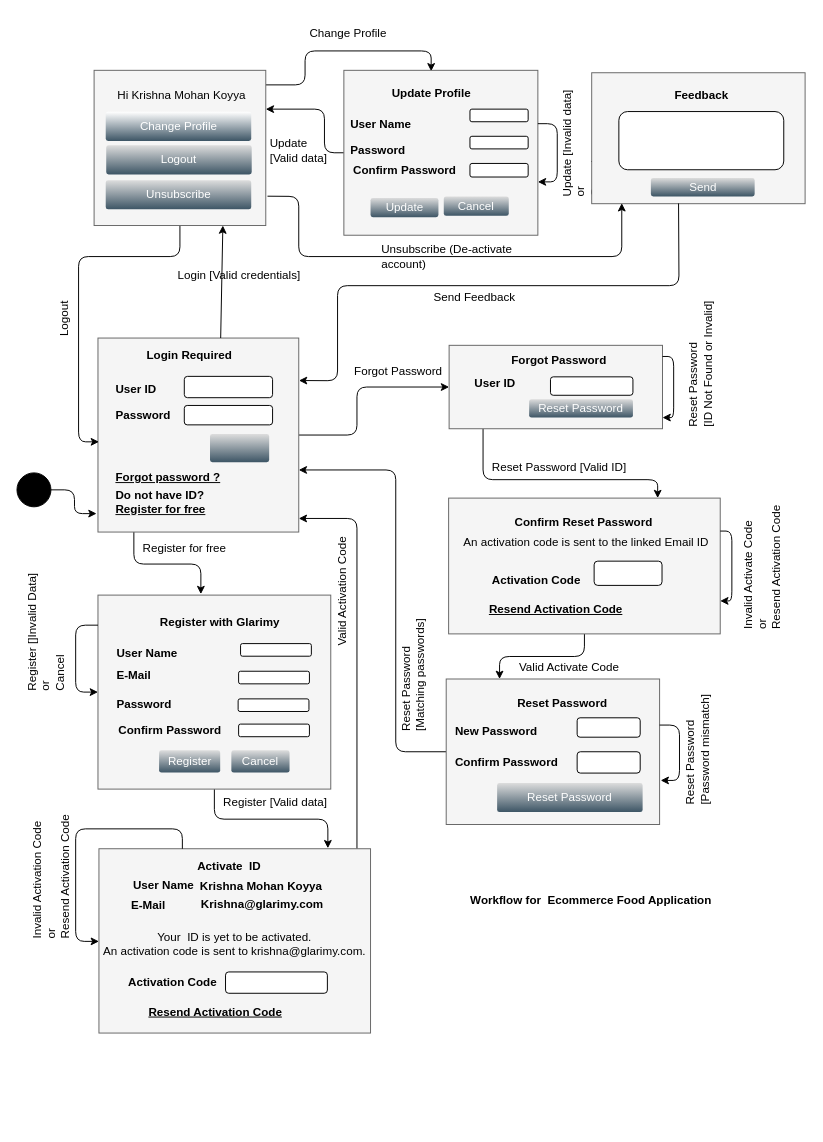
Image size: 823x1142. Some labels were removed from this diagram. Here are the shapes that lost their labels. From the top down, the centre of each, then its label:
At point 239,447: "Login".
At point 33,489: "START".
